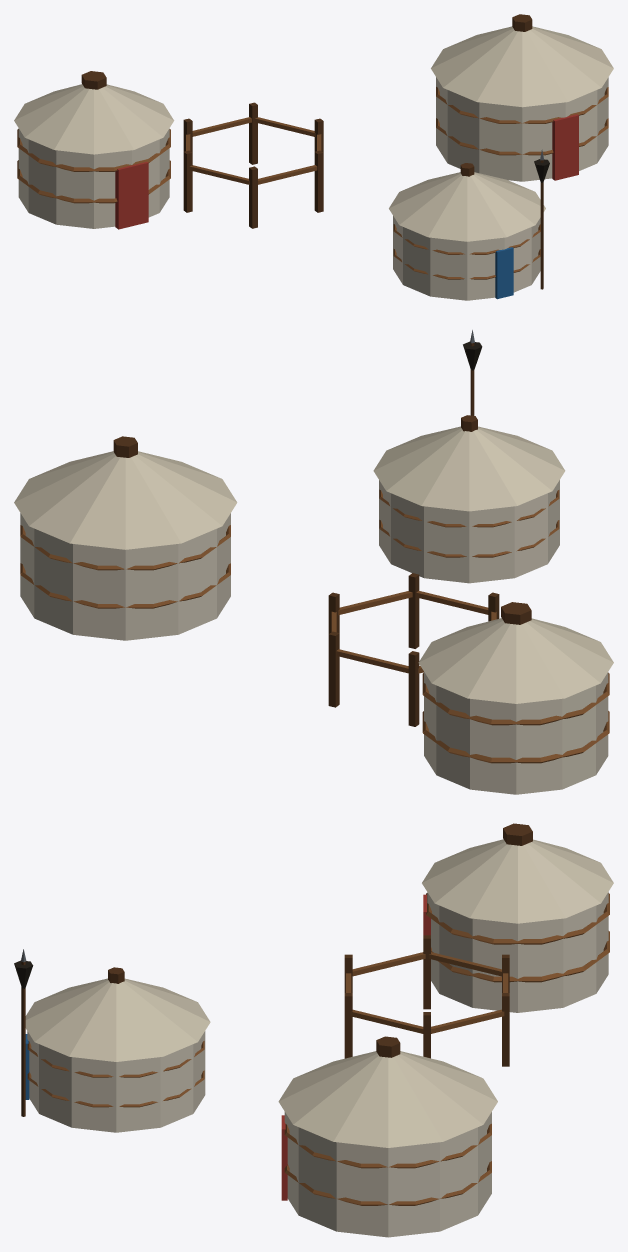
File: orc_compound_broken.glb
The picture shows the model from 3 angles, top to bottom: view 1: azimuth 30°, elevation 25°; view 2: azimuth 150°, elevation 25°; view 3: azimuth 270°, elevation 25°; orthographic projection. The views are drawn at different scales.
Parts seen in each view (by area): view 1: orc_compound_piece1, orc_compound_piece5, orc_compound_piece4, orc_compound_piece7, orc_compound_piece8, orc_compound_piece6, orc_compound_piece2, orc_compound_piece12, orc_compound_piece13, orc_compound_piece3; view 2: orc_compound_piece4, orc_compound_piece1, orc_compound_piece5, orc_compound_piece11, orc_compound_piece0, orc_compound_piece3, orc_compound_piece6, orc_compound_piece12, orc_compound_piece13, orc_compound_piece10; view 3: orc_compound_piece5, orc_compound_piece4, orc_compound_piece8, orc_compound_piece1, orc_compound_piece0, orc_compound_piece13, orc_compound_piece2, orc_compound_piece3, orc_compound_piece6, orc_compound_piece12, orc_compound_piece7, orc_compound_piece10.
Boxes of the visible parts, x1=… form: orc_compound_piece1: x1=14, y1=71, x2=267, y2=229; orc_compound_piece5: x1=389, y1=149, x2=549, y2=300; orc_compound_piece4: x1=431, y1=14, x2=595, y2=168; orc_compound_piece7: x1=476, y1=54, x2=570, y2=181; orc_compound_piece8: x1=546, y1=47, x2=613, y2=179; orc_compound_piece6: x1=199, y1=102, x2=316, y2=164; orc_compound_piece2: x1=506, y1=127, x2=608, y2=180; orc_compound_piece12: x1=299, y1=118, x2=323, y2=200; orc_compound_piece13: x1=132, y1=91, x2=323, y2=212; orc_compound_piece3: x1=249, y1=169, x2=514, y2=228; orc_compound_piece4: x1=14, y1=436, x2=237, y2=622; orc_compound_piece1: x1=457, y1=592, x2=613, y2=793; orc_compound_piece5: x1=378, y1=330, x2=565, y2=579; orc_compound_piece11: x1=44, y1=548, x2=216, y2=640; orc_compound_piece0: x1=419, y1=634, x2=521, y2=794; orc_compound_piece3: x1=376, y1=462, x2=503, y2=611; orc_compound_piece6: x1=328, y1=618, x2=443, y2=778; orc_compound_piece12: x1=328, y1=573, x2=437, y2=633; orc_compound_piece13: x1=397, y1=601, x2=460, y2=720; orc_compound_piece10: x1=225, y1=473, x2=401, y2=568; orc_compound_piece5: x1=14, y1=949, x2=187, y2=1132; orc_compound_piece4: x1=308, y1=1036, x2=497, y2=1228; orc_compound_piece8: x1=278, y1=1094, x2=445, y2=1237; orc_compound_piece1: x1=344, y1=823, x2=607, y2=1009; orc_compound_piece0: x1=460, y1=871, x2=613, y2=1012; orc_compound_piece13: x1=344, y1=891, x2=567, y2=1058; orc_compound_piece2: x1=112, y1=1050, x2=338, y2=1231; orc_compound_piece3: x1=139, y1=976, x2=351, y2=1097; orc_compound_piece6: x1=428, y1=966, x2=598, y2=1066; orc_compound_piece12: x1=344, y1=993, x2=445, y2=1057; orc_compound_piece7: x1=280, y1=1072, x2=347, y2=1118; orc_compound_piece10: x1=168, y1=1040, x2=198, y2=1111.
Bounding box in the file's own units: 5.59 × 1.43 × 4.63.
